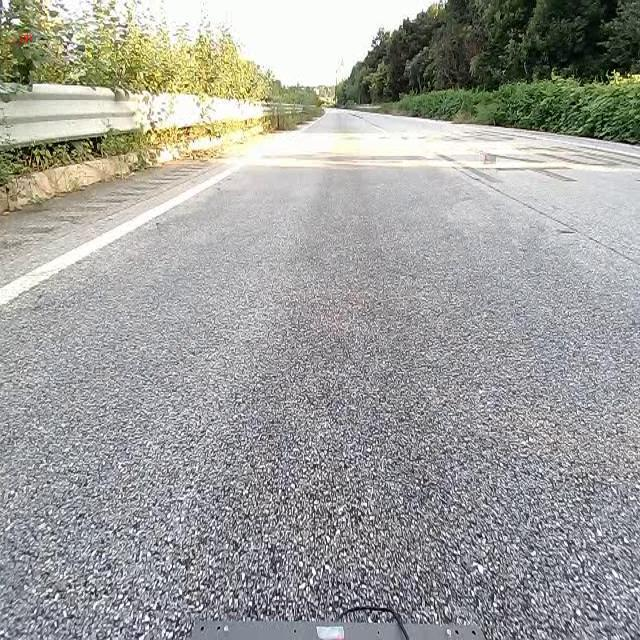Lane: (0, 156, 250, 306), (0, 160, 245, 307)
